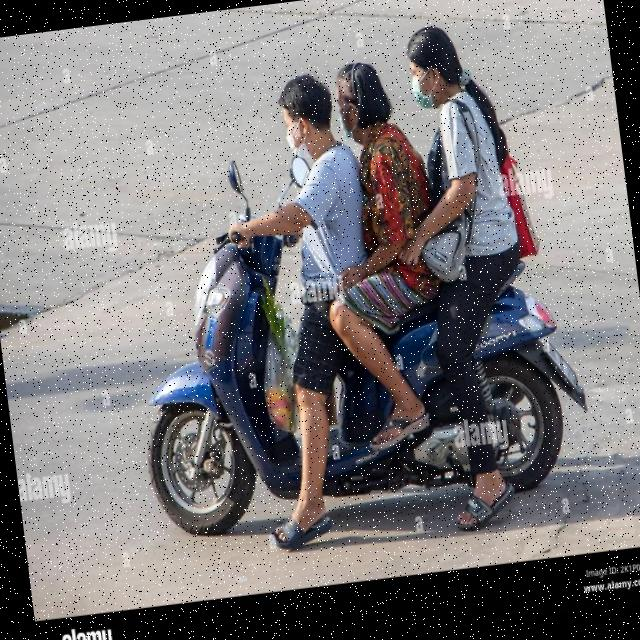No helmet: (270, 64, 346, 171)
Triple riding: (257, 18, 554, 374)
